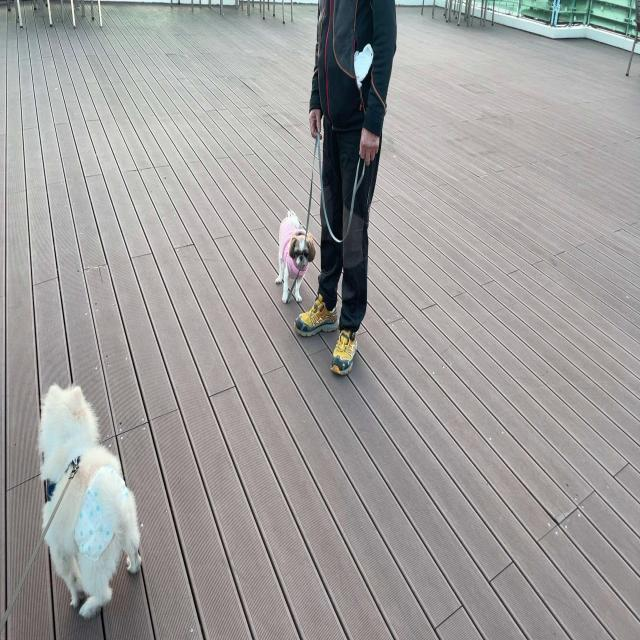Dog: (36, 382, 143, 618)
Leashed_Dog: (275, 111, 340, 306)
